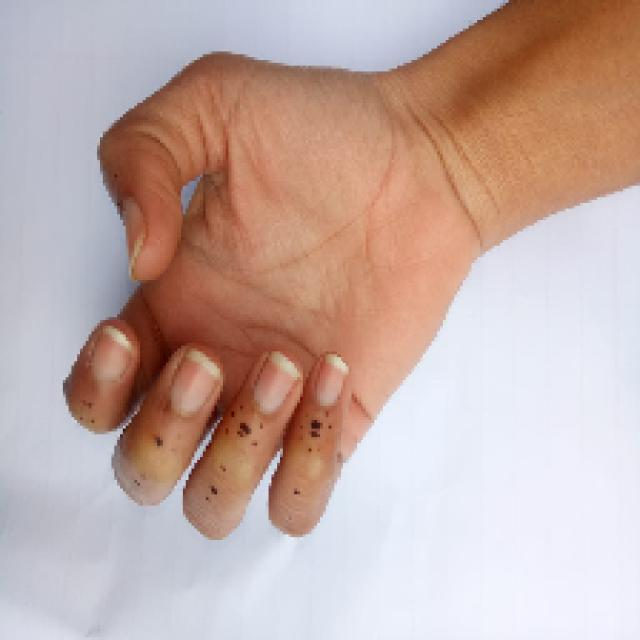Nail: (171, 349, 222, 417), (252, 351, 301, 414), (91, 325, 134, 381), (315, 354, 349, 406), (126, 198, 146, 282)
